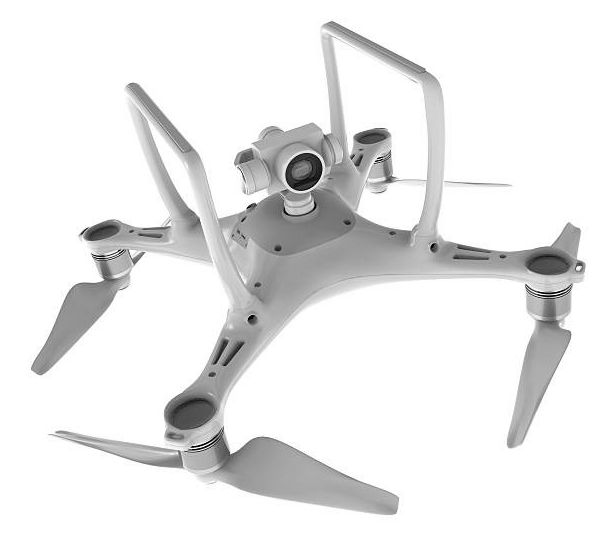Drone: (23, 10, 590, 523)
